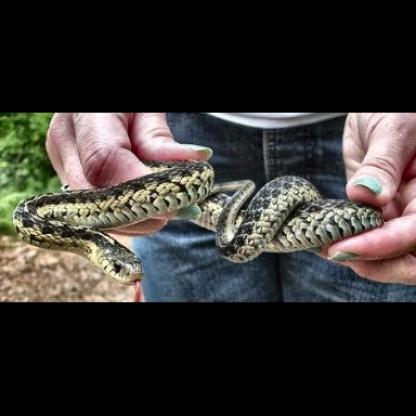Snake: (6, 155, 382, 287)
